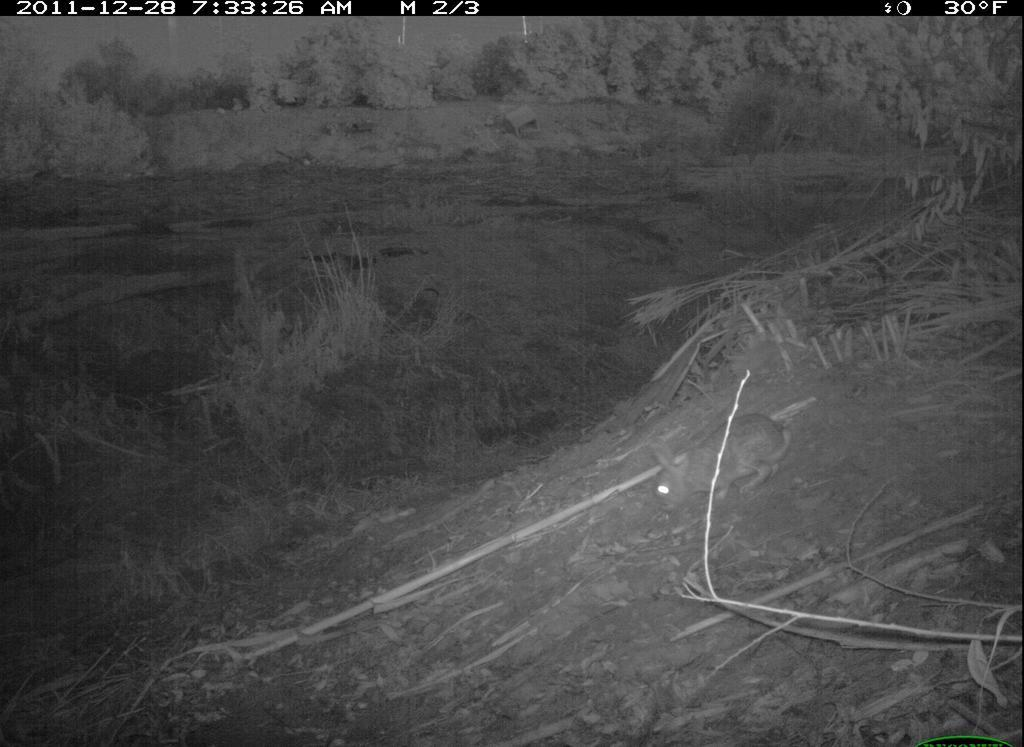rabbit: (635, 411, 806, 518)
